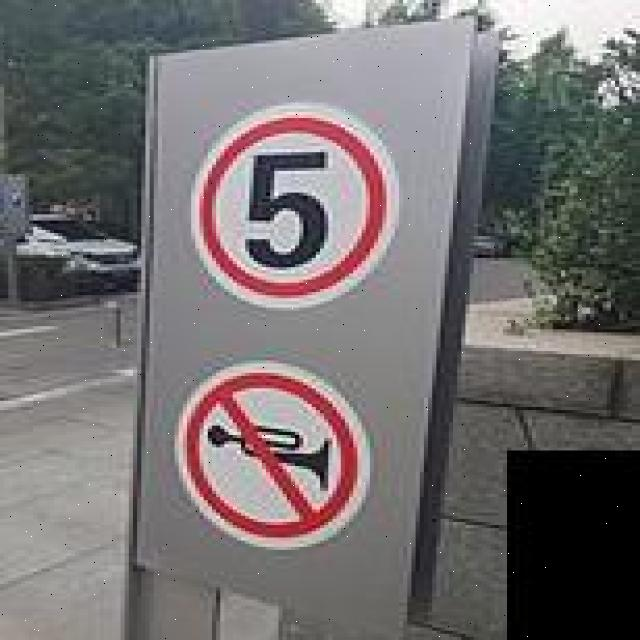speed limit 10: (192, 104, 401, 311)
